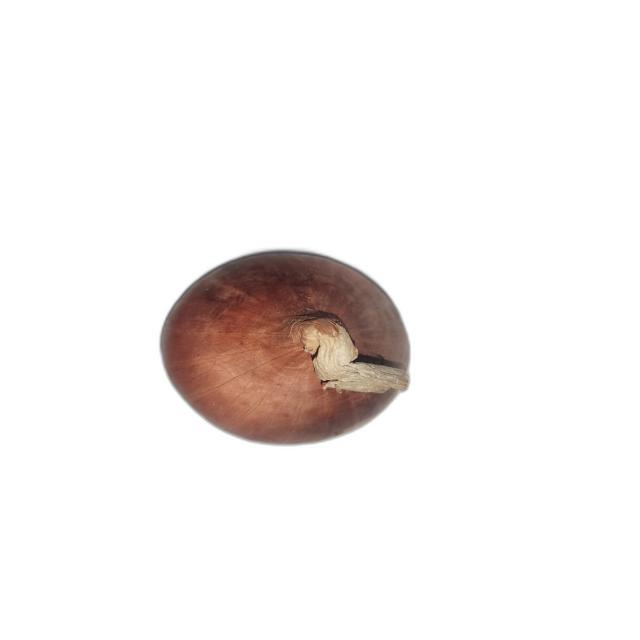onion: (160, 249, 411, 447)
